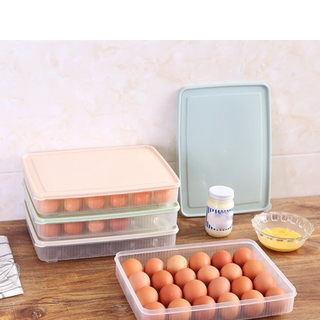egg: (122, 247, 289, 317), (28, 184, 175, 231)
